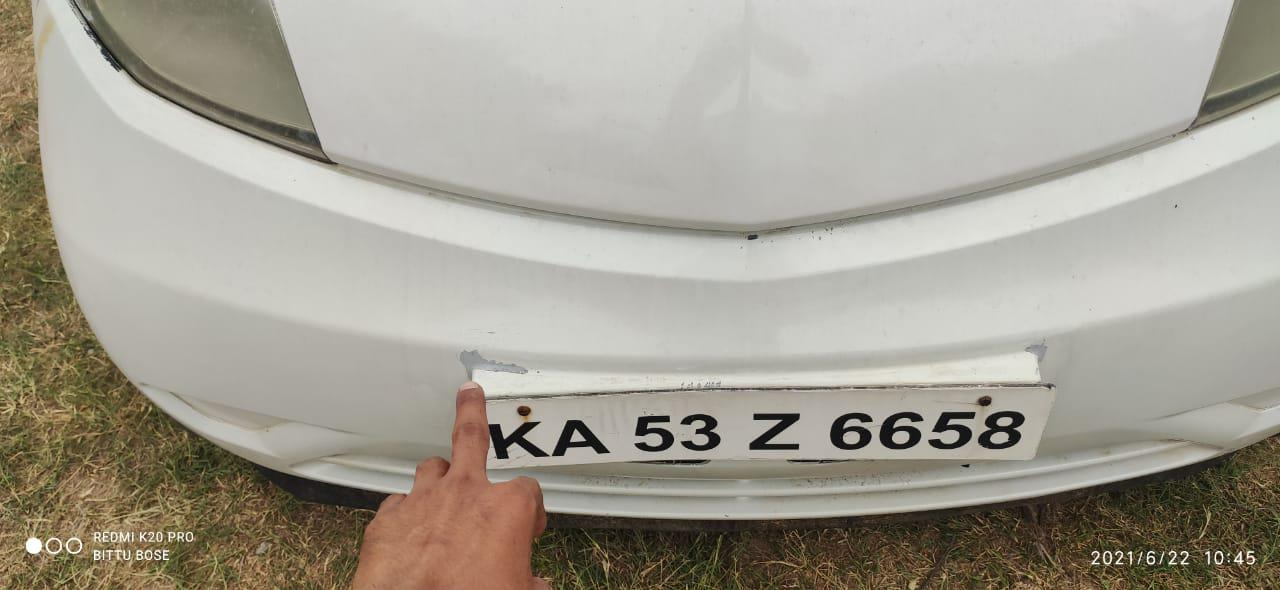front-bumper-dent: (371, 177, 864, 554)
